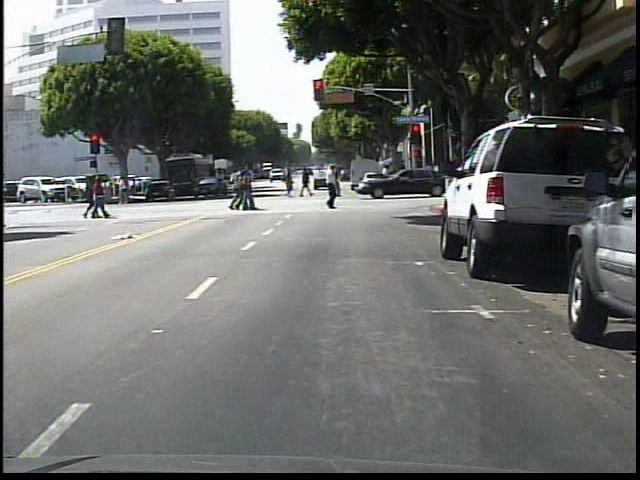person: (319, 160, 343, 212), (115, 175, 134, 208), (327, 167, 345, 196)
